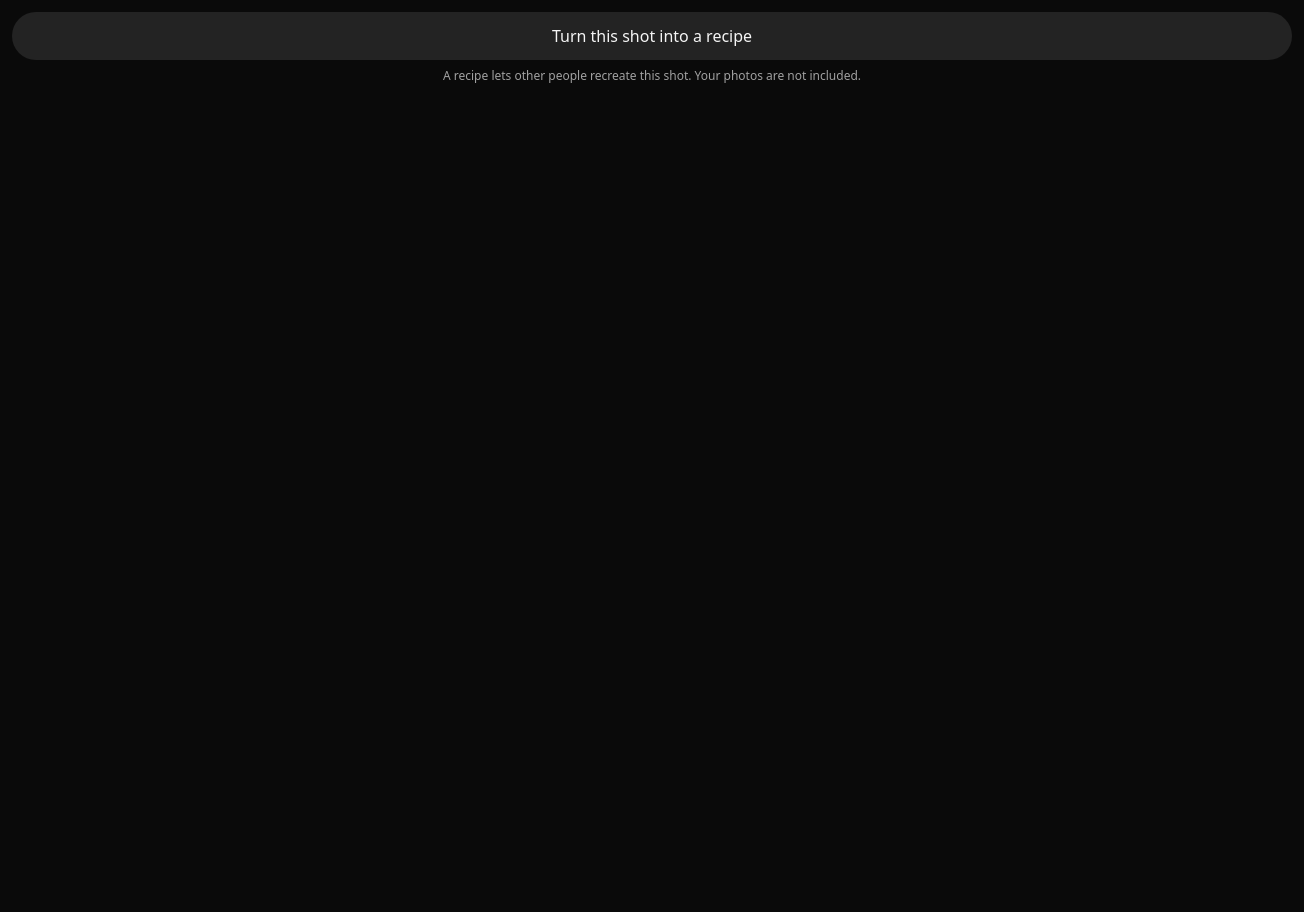
Test case: RecipePublisher › says so when the server kept the recipe as a draft instead of making it public
Click the button "Turn this shot into a recipe" at (652, 36), box [12, 12, 1292, 60]
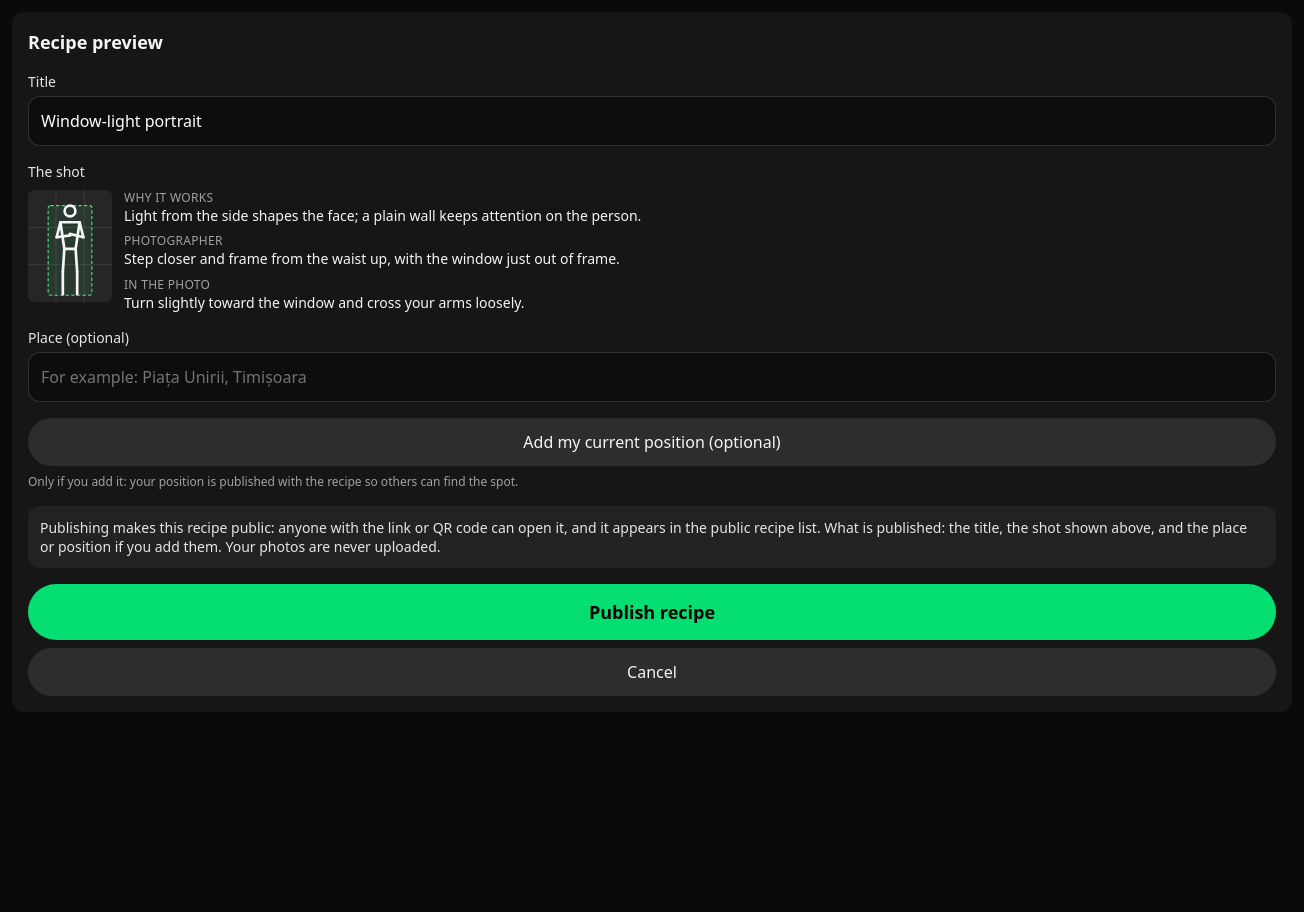
Click the button "Publish recipe" at (652, 612), box [28, 584, 1276, 640]
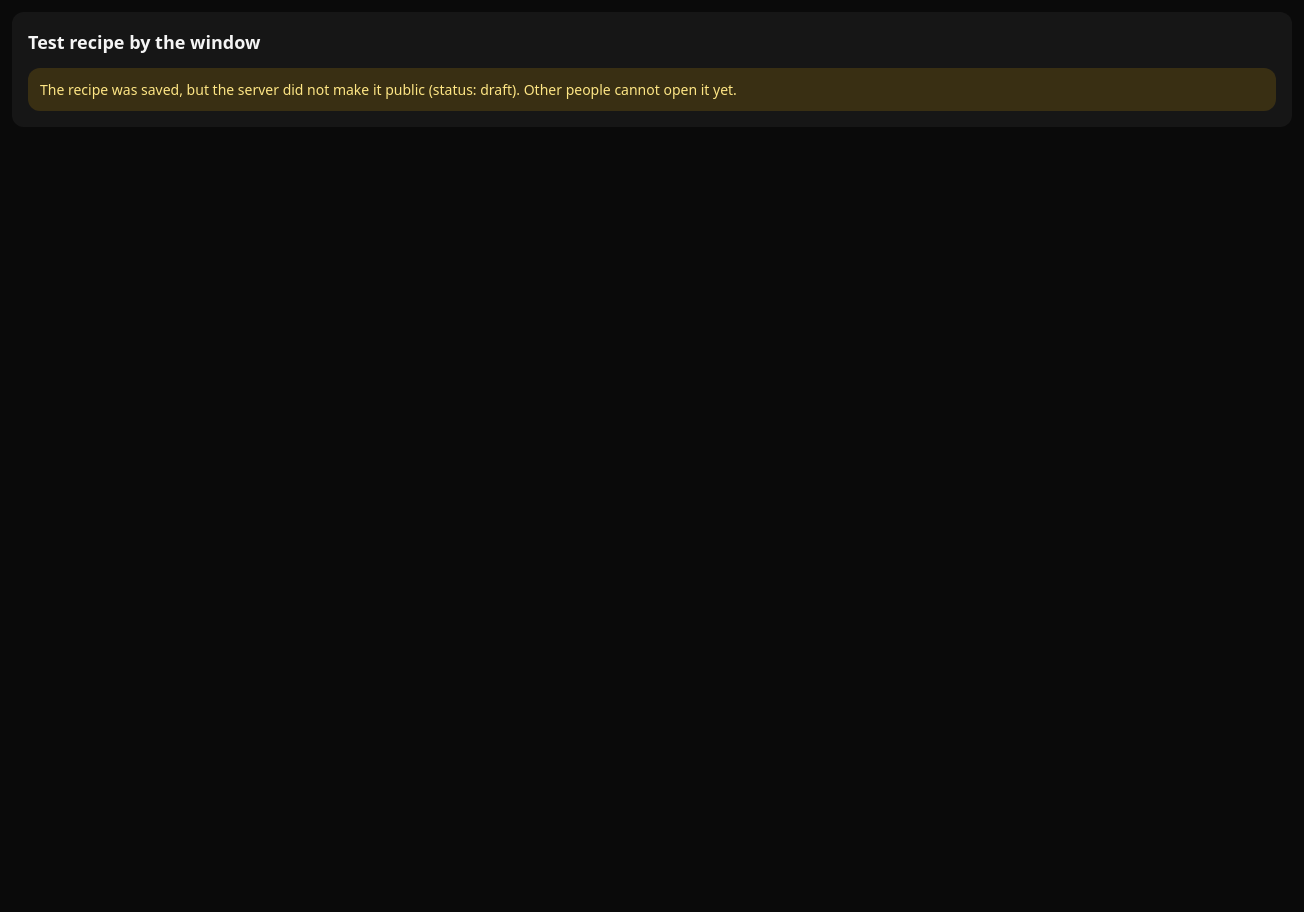
Now the message shows "draft", box [40, 80, 737, 99]
